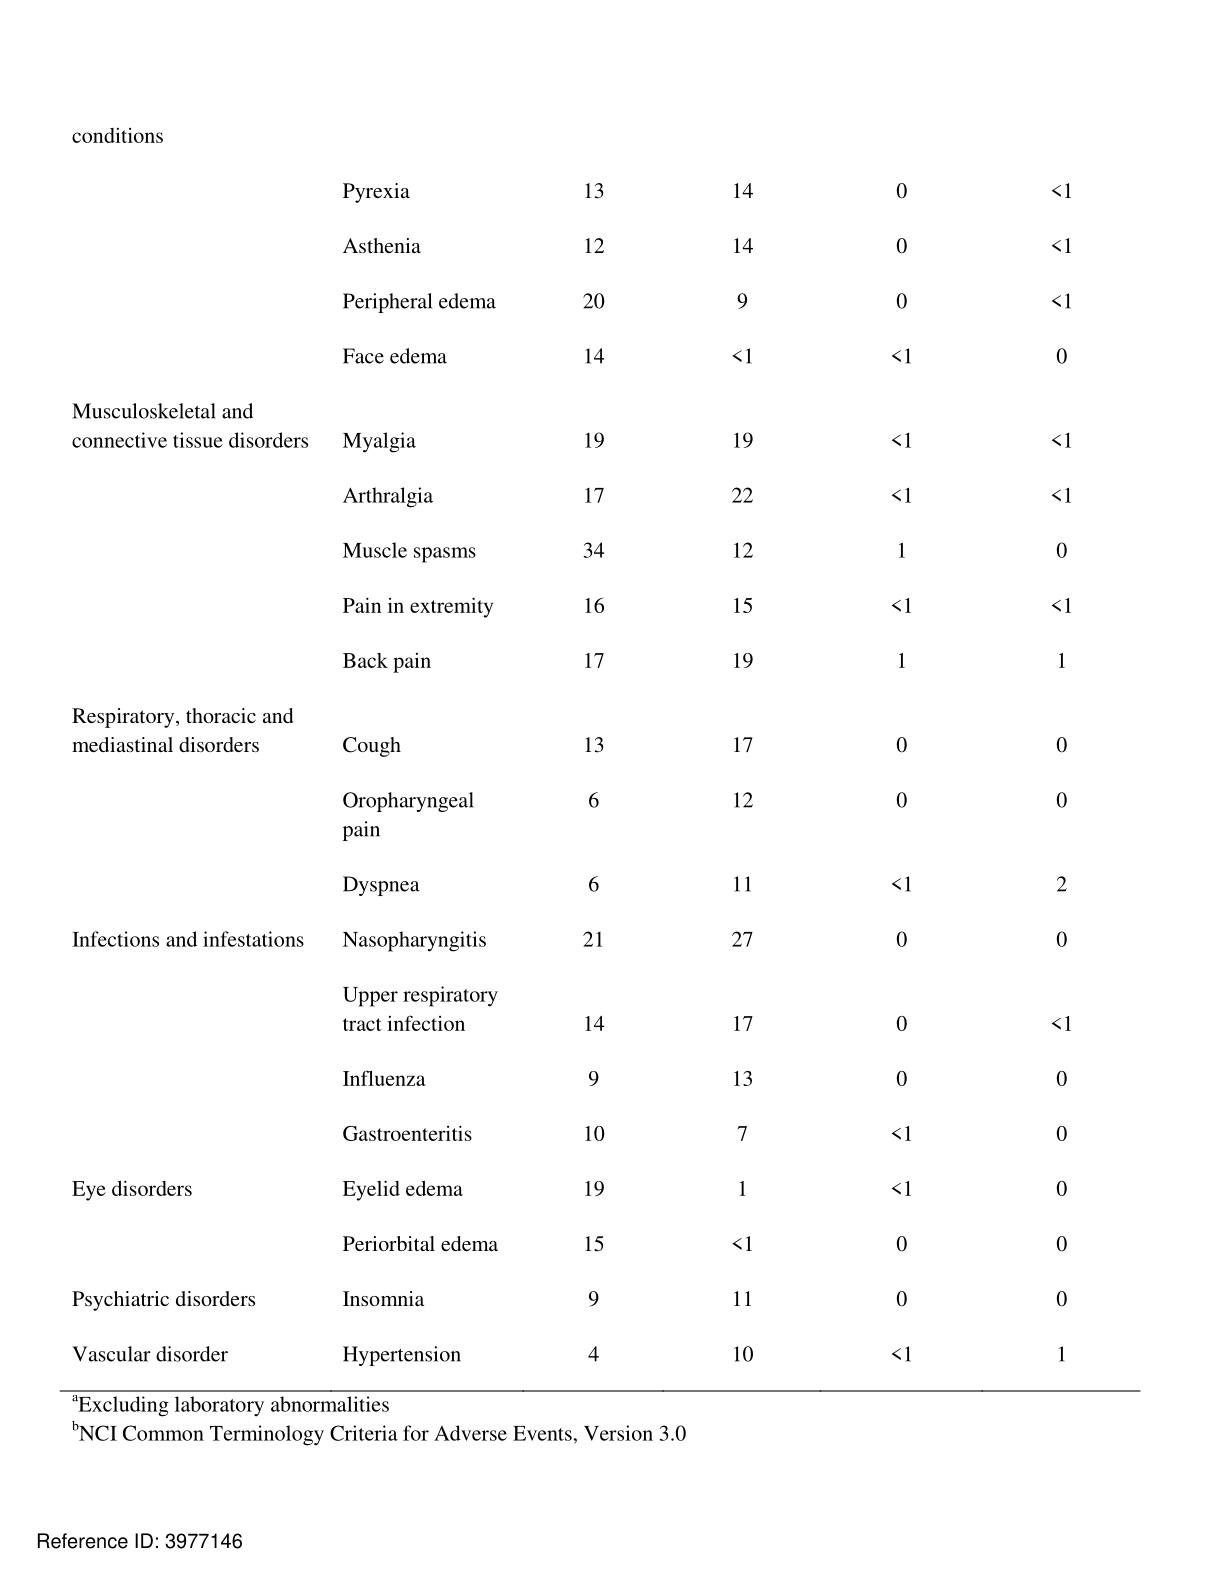nolines: (64, 123, 1090, 1372)
